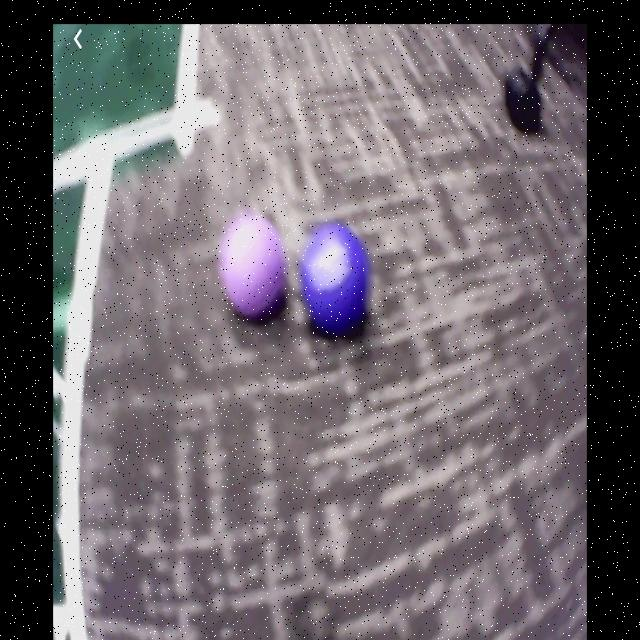ball: (304, 224, 370, 337), (225, 219, 287, 320)
